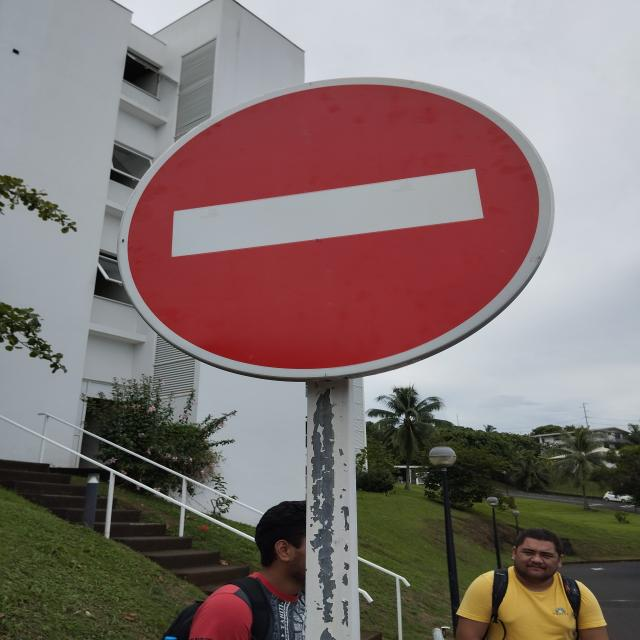Sens-Interdit: (119, 72, 556, 381)
